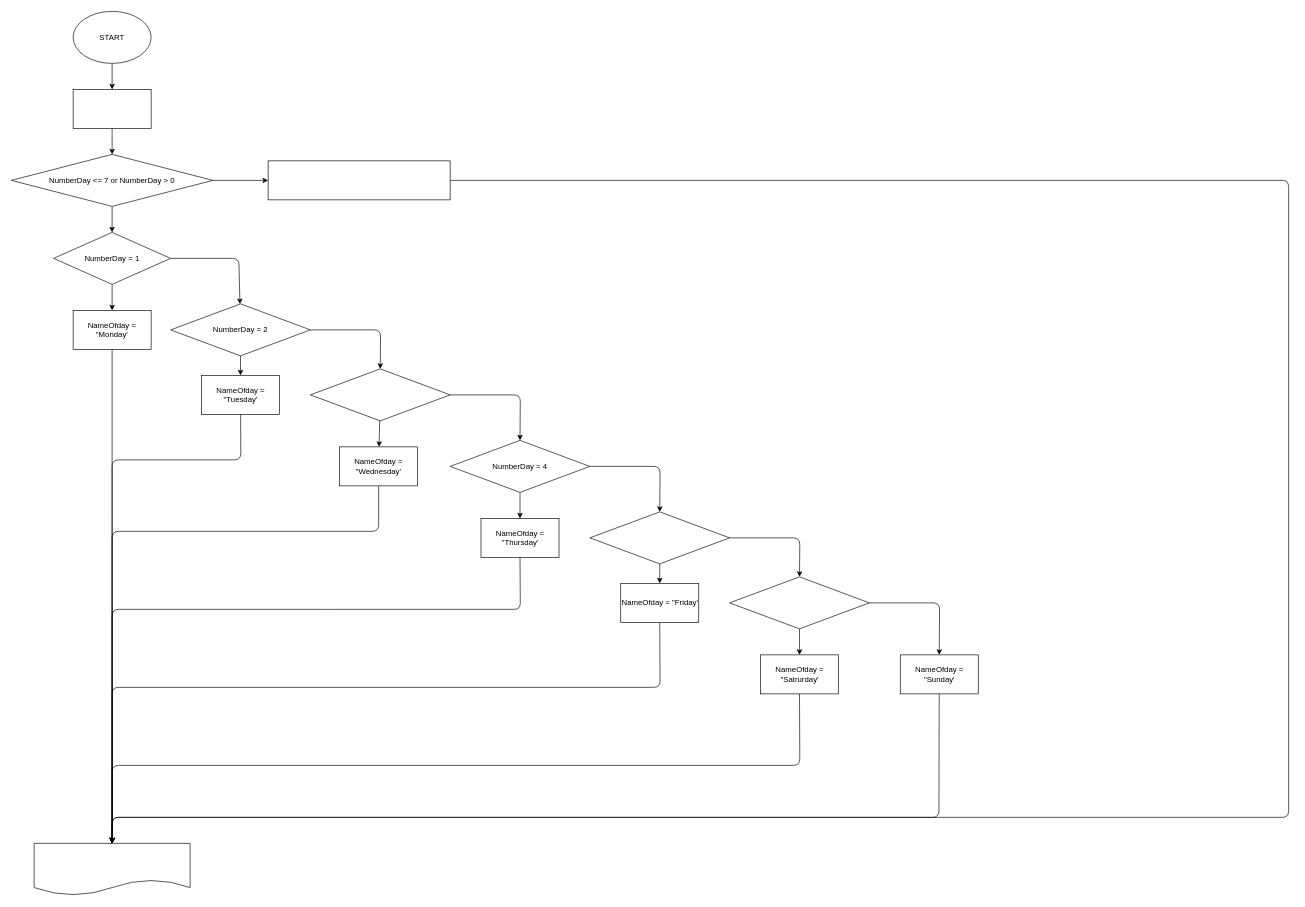
The diagram is 1305 pixels wide and 907 high, and some of its shapes have lost their labels. The centre of each missing label's shape, as x and y in pixels:
Console.WriteLine("NameOfday"): point (111, 869)
NameOfday = " Неправильно введен номер дня недели [1-7]": point (358, 180)
NumberDay = 3: point (380, 394)
NumberDay = 5: point (659, 537)
NumberDay = 6: point (799, 602)
NumberDay = Console.ReadLine() NameOfday = "";: point (111, 108)
